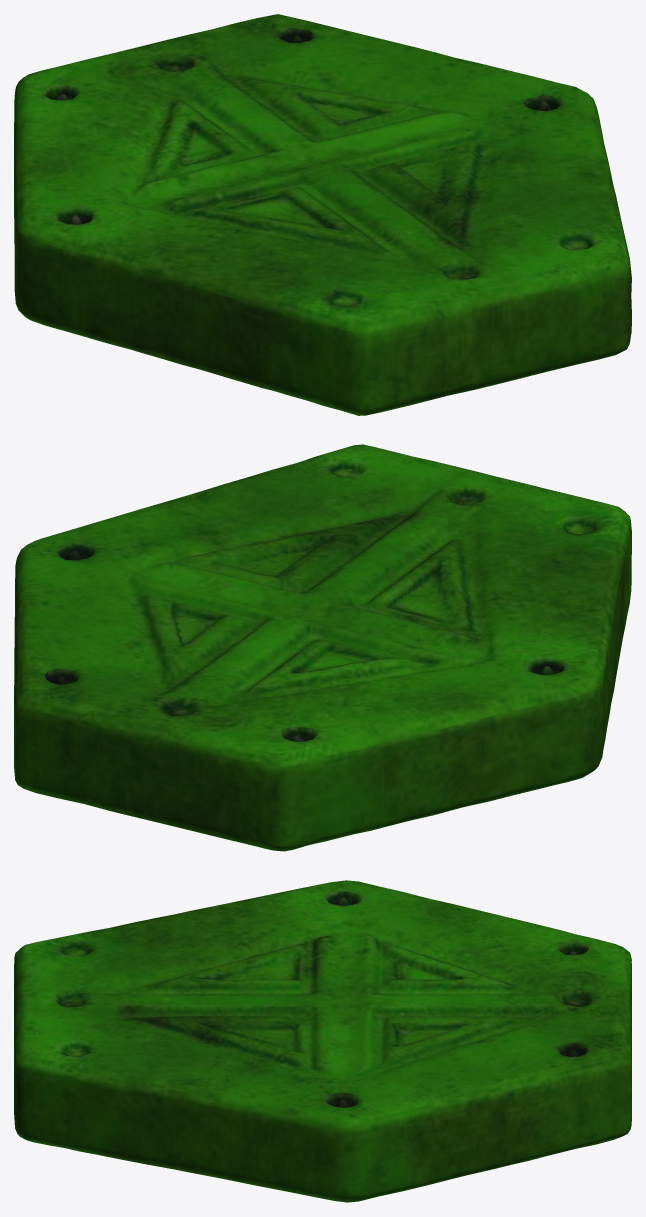
The model's file is fs_caustic_rune.glb.
3 renders of one model, top to bottom at view 1: azimuth 30°, elevation 25°; view 2: azimuth 150°, elevation 25°; view 3: azimuth 270°, elevation 25°, orthographic. The views are drawn at different scales.
Visible parts, largest first — view 1: geometry_0; view 2: geometry_0; view 3: geometry_0.
Part boxes in pixels (x1,y1,x2,y2): geometry_0: (14,14,631,415); geometry_0: (14,444,631,851); geometry_0: (14,880,631,1202).
Size of the model in its own units: 0.9489 by 0.1554 by 1.
1 material, 1 textured.
